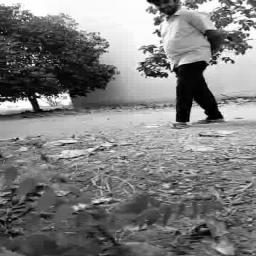Azadiractha Indica: (12, 163, 253, 256)
